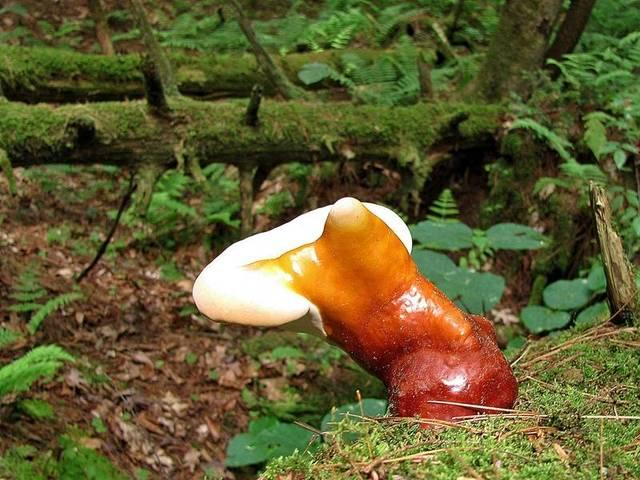Non-edible Mushroom: (191, 195, 519, 429)
